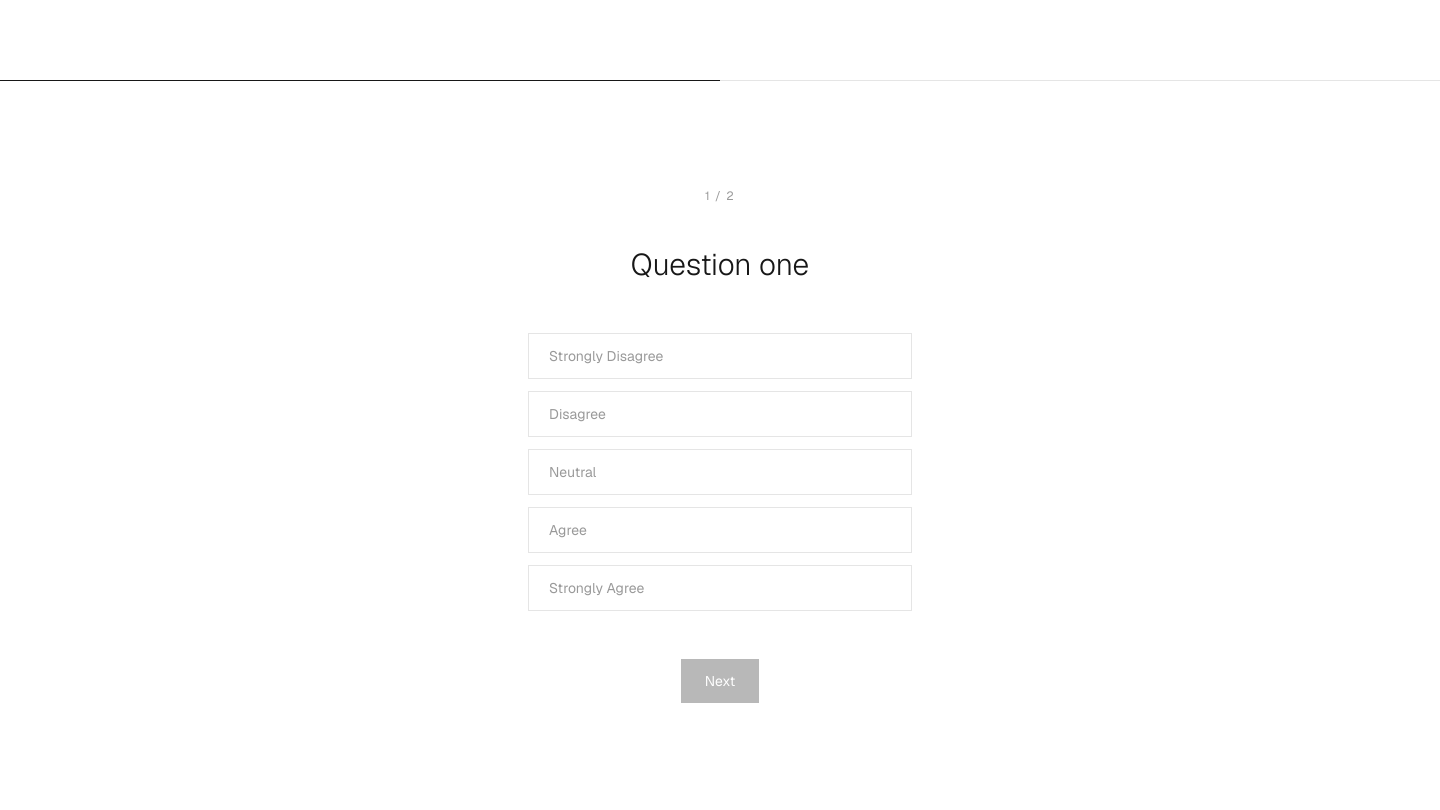
it: QuizContainer › shows an error alert when submission fails
Click the button "Agree": {"x": 568, "y": 530} [528,507,912,553]
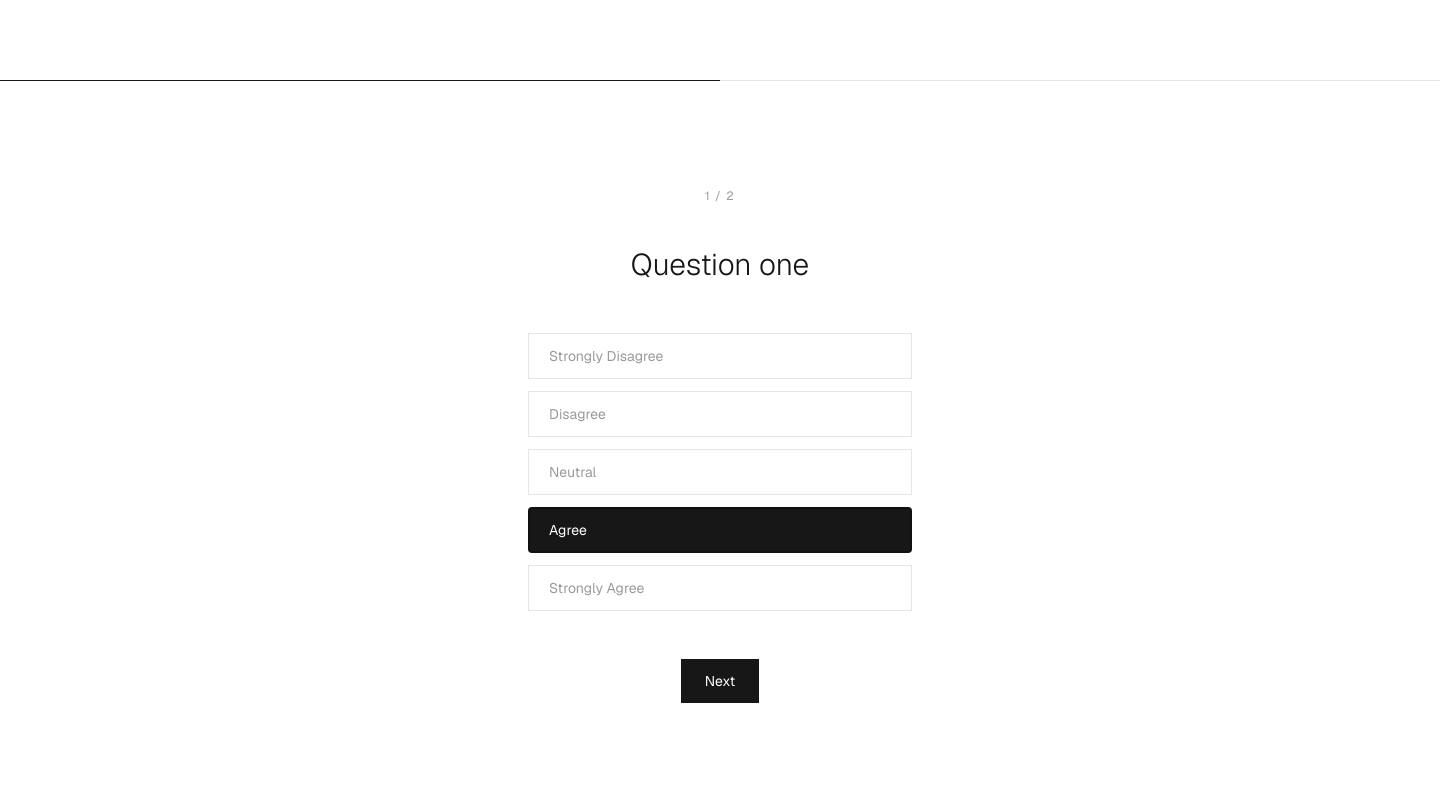
Click the button "Next": {"x": 720, "y": 681} [681,659,759,703]
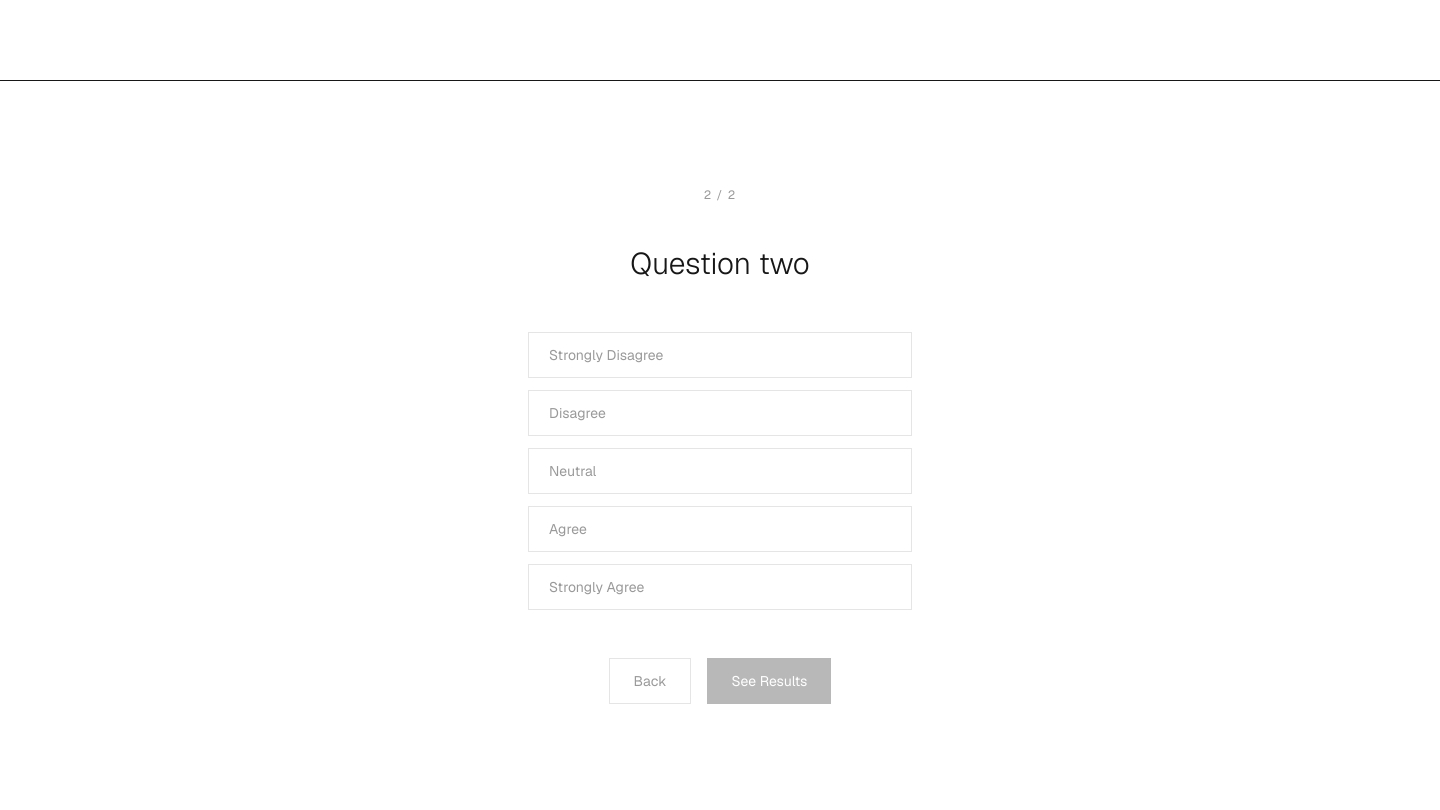
Click the button "Strongly Agree": {"x": 597, "y": 587} [528,564,912,610]
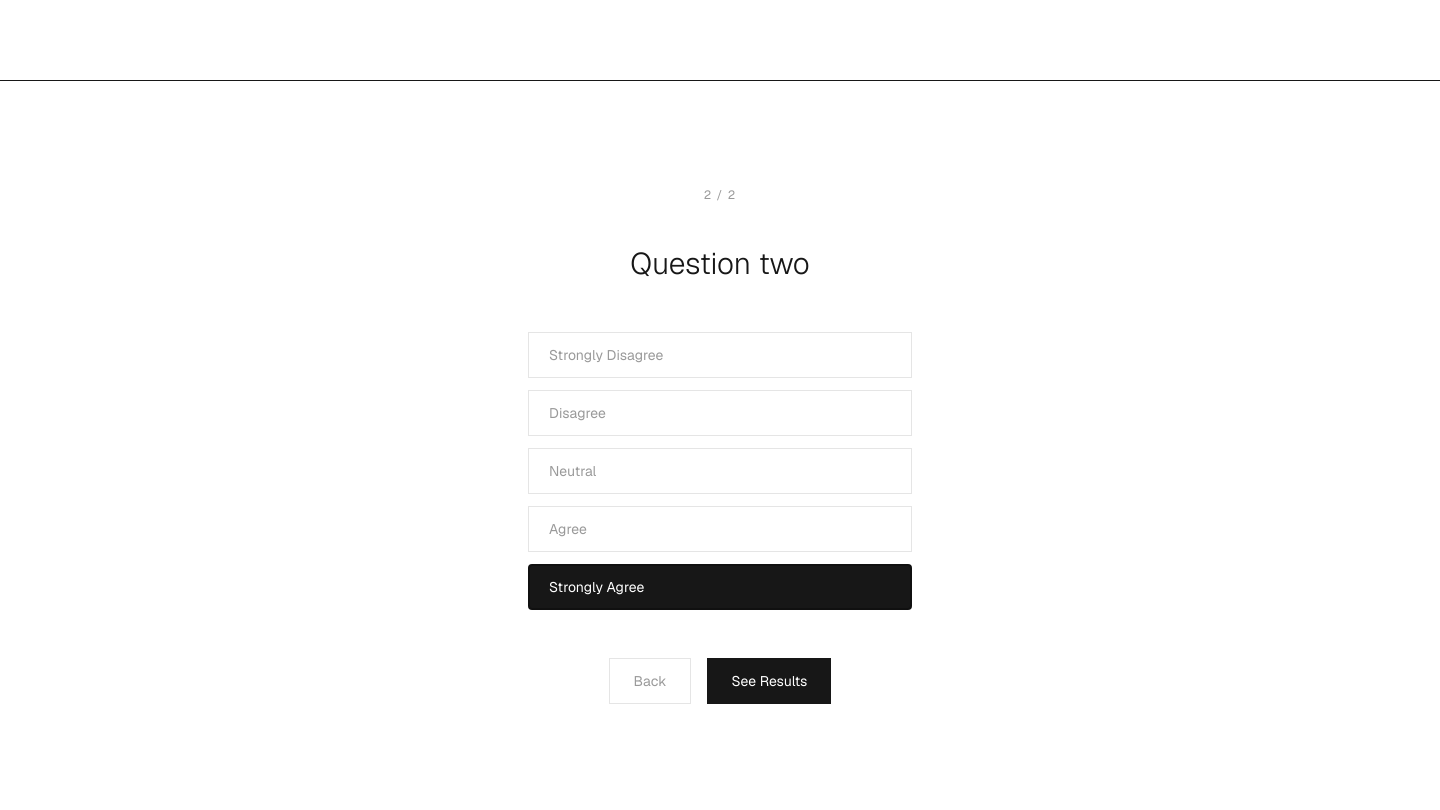
Click the button "See Results": {"x": 769, "y": 681} [707,658,831,704]
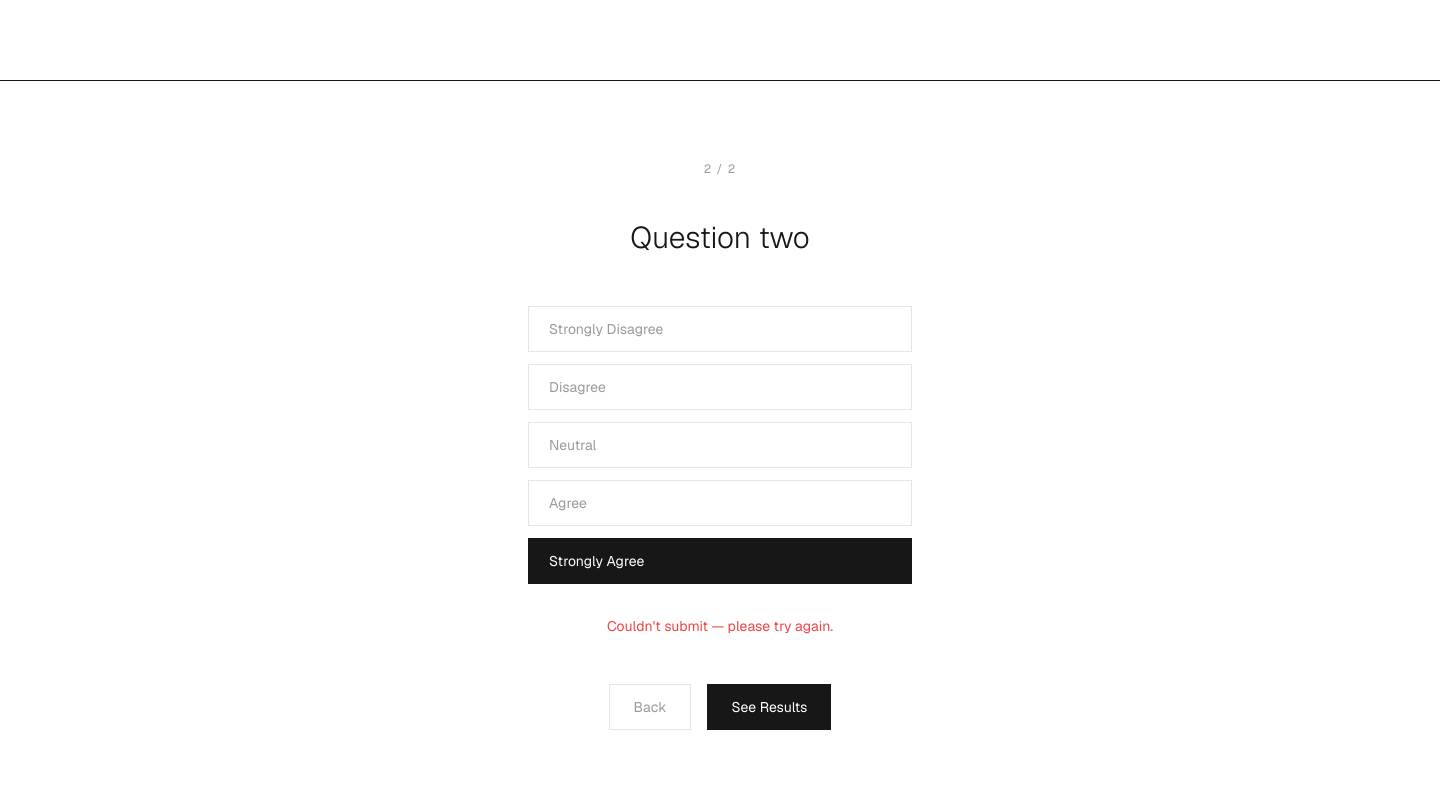
Result: the message shows "Couldn't submit" at [607,617,833,635]
